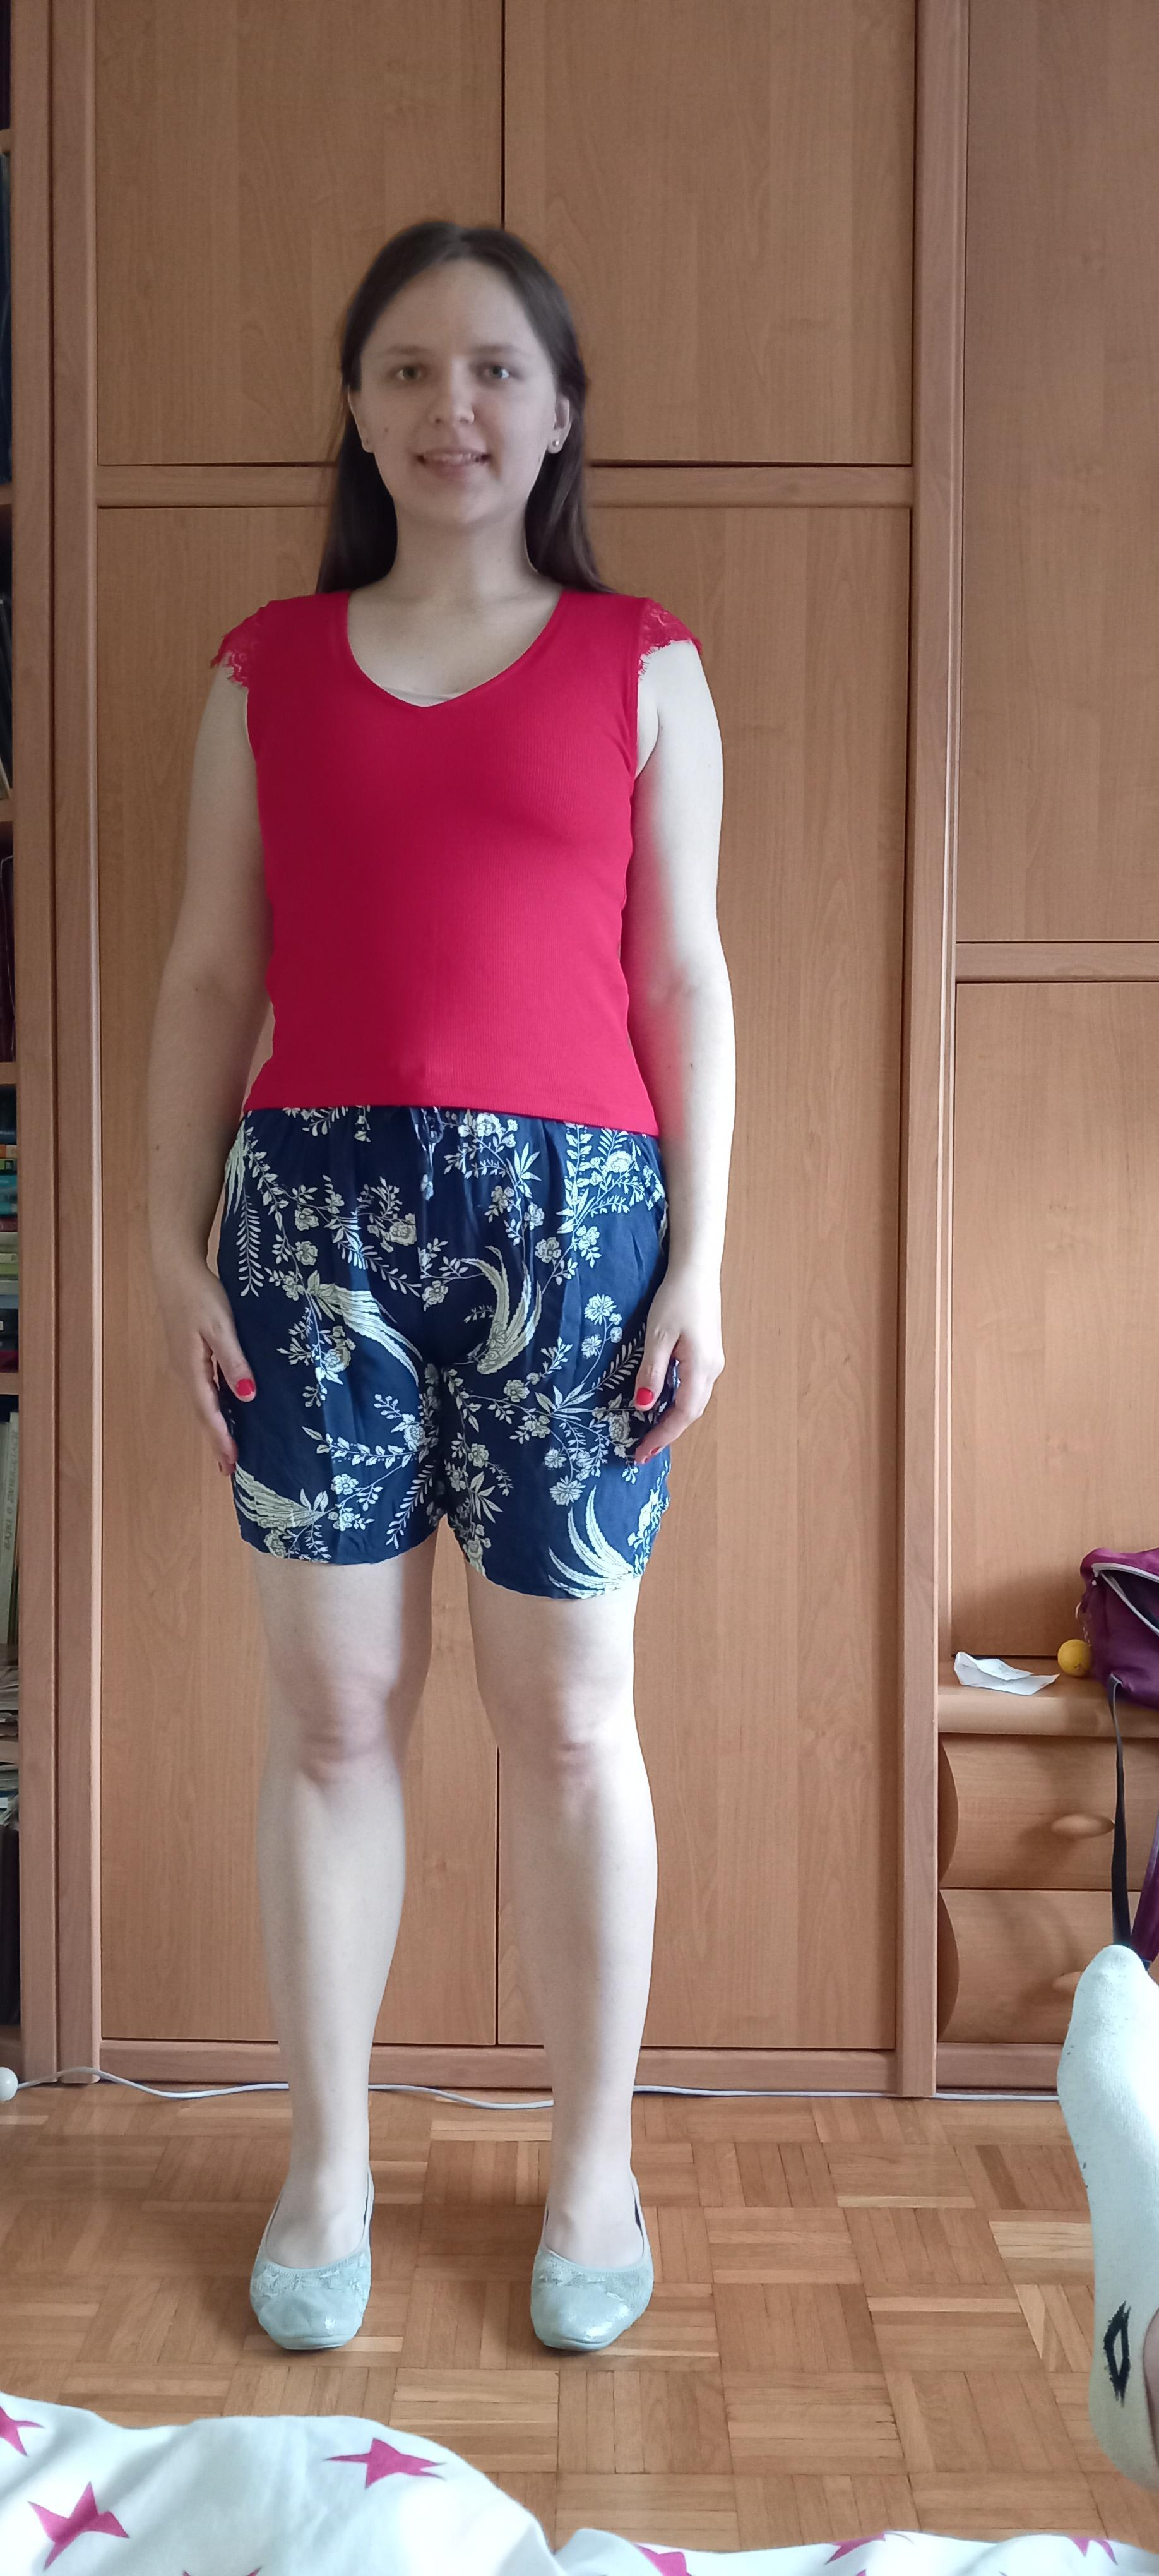Tshirt: (212, 590, 704, 1135)
short: (208, 1106, 678, 1598)
